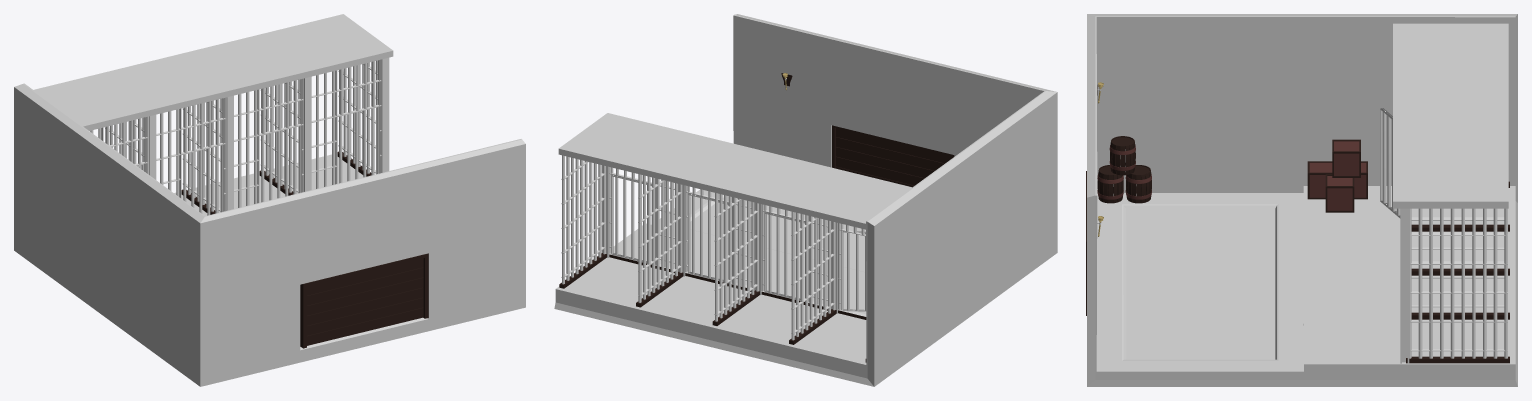
File: prison_many.fbx
3 renders of one model, left to right at view 1: azimuth 30°, elevation 25°; view 2: azimuth 150°, elevation 25°; view 3: azimuth 270°, elevation 25°, orthographic. The views are drawn at different scales.
Parts seen in each view (by area): view 1: Cube.007, Cylinder.001, Cube.012, Cube.037, Cylinder.012, Cube.024, Cube.036; view 2: Cube.007, Cube.012, Cylinder.012, Cylinder.001, Cube.037, Cube.024, Cylinder.011, Cube.036; view 3: Cube.007, Cube.012, Cube.024, Cylinder.011, Cube.046, Cube.045, Cube.043, Cube.042, Cube.040, Cube.044, Cube.041.
Boxes of the visible parts, x1,y1,x2,y2 form: Cube.007: (14,14,525,386); Cylinder.001: (90,59,381,211); Cube.012: (105,60,377,214); Cube.037: (307,258,423,345); Cylinder.012: (182,106,378,215); Cube.024: (149,57,389,210); Cube.036: (300,253,428,348); Cube.007: (554,14,1057,386); Cube.012: (559,155,866,362); Cylinder.012: (611,175,805,301); Cylinder.001: (609,167,866,319); Cube.037: (836,128,950,187); Cube.024: (601,165,837,313); Cylinder.011: (842,231,866,311); Cube.036: (832,125,954,168); Cube.007: (1087,14,1517,386); Cube.012: (1406,181,1509,363); Cube.024: (1400,208,1409,363); Cylinder.011: (1380,108,1400,218); Cube.046: (1332,139,1360,177); Cube.045: (1325,174,1354,212); Cube.043: (1109,136,1135,175); Cube.042: (1125,165,1151,203); Cube.040: (1097,165,1123,203); Cube.044: (1307,161,1332,199); Cube.041: (1354,161,1367,199).
Bounding box in the file's own units: 209 × 102 × 208.
